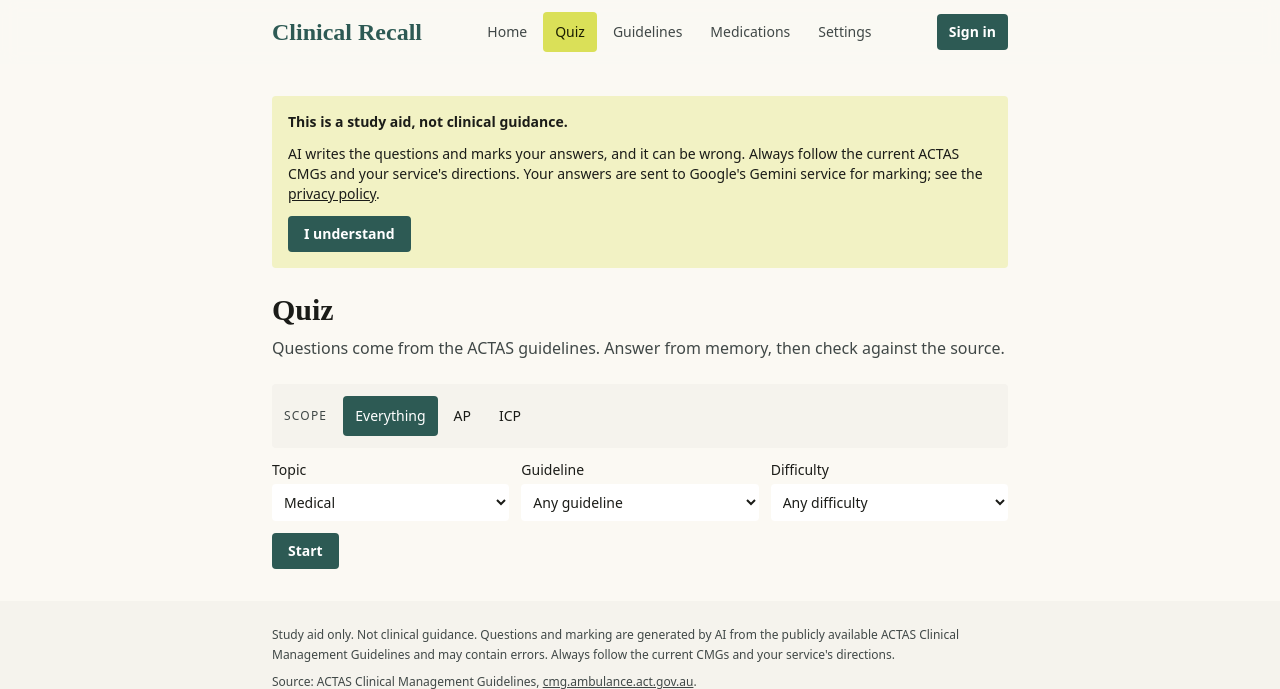
self-marking › starts a topic quiz from a heatmap link
Click the button "Start": (305, 551) left=272, top=533, right=339, bottom=569
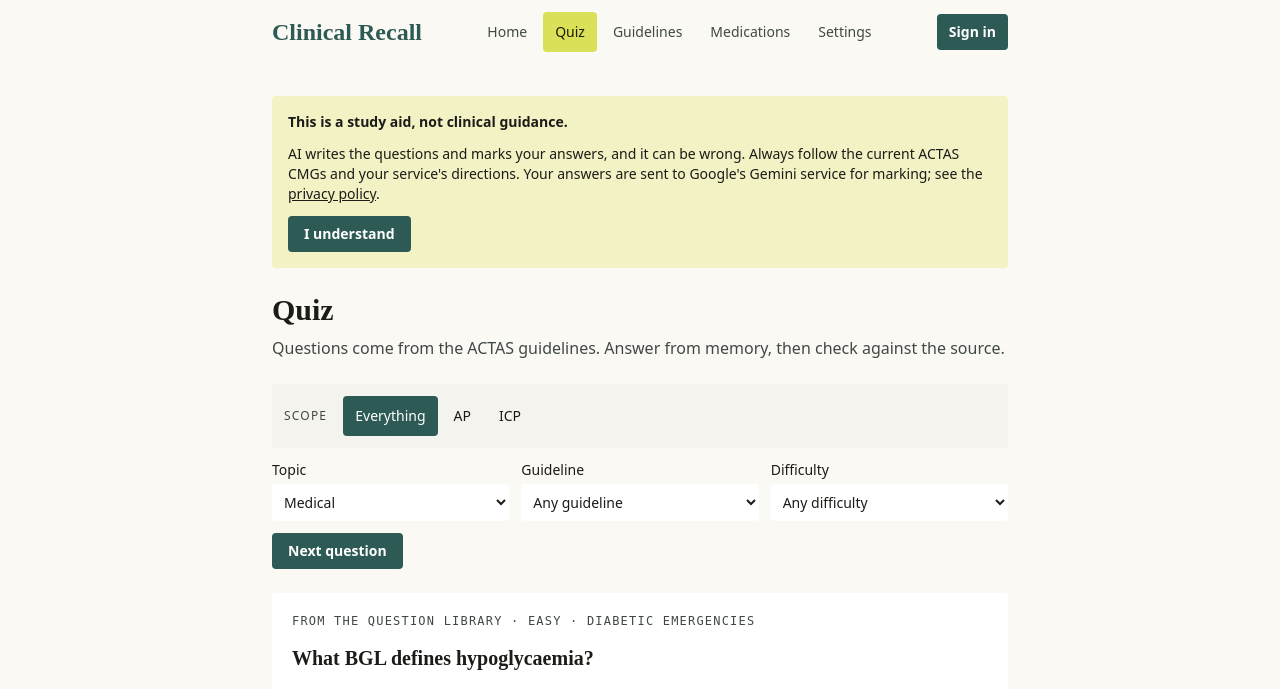
Check: the heading "What BGL defines hypoglycaemia?" is shown, box left=292, top=647, right=594, bottom=669
